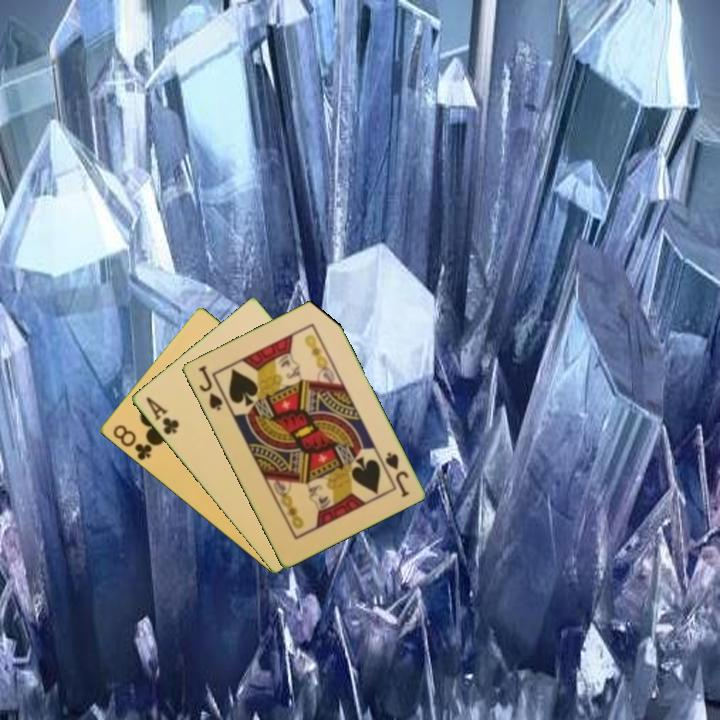8c: (109, 421, 155, 463)
Ac: (142, 393, 182, 438)
Js: (194, 362, 225, 414), (381, 448, 412, 500)
